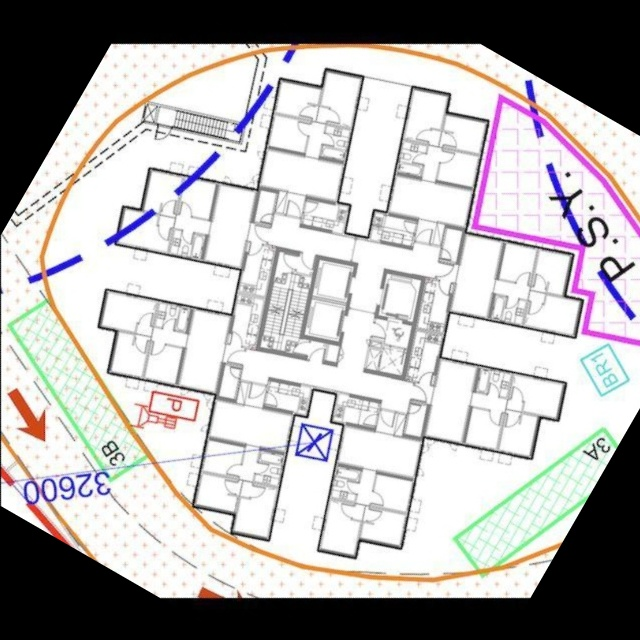tower_crane: (292, 421, 334, 465)
